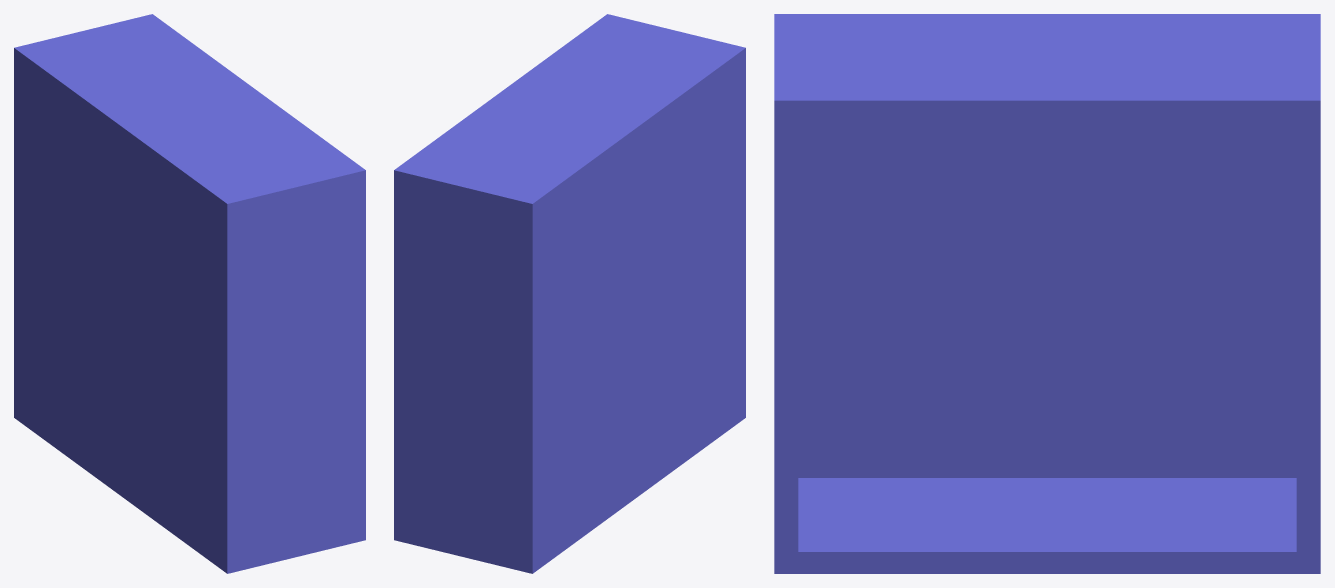
File: piecebleue.fbx
3 views of the same model, side by side, from view 1: azimuth 30°, elevation 25°; view 2: azimuth 150°, elevation 25°; view 3: azimuth 270°, elevation 25° (orthographic). The views are drawn at different scales.
Parts seen in each view (by area): view 1: Cube; view 2: Cube; view 3: Cube.
Boxes of the visible parts, box(x1,y1,x2,y2) form: Cube: box(14, 14, 365, 573); Cube: box(394, 14, 745, 573); Cube: box(774, 14, 1320, 573).
Bounding box in the file's own units: 120 × 306 × 320.
